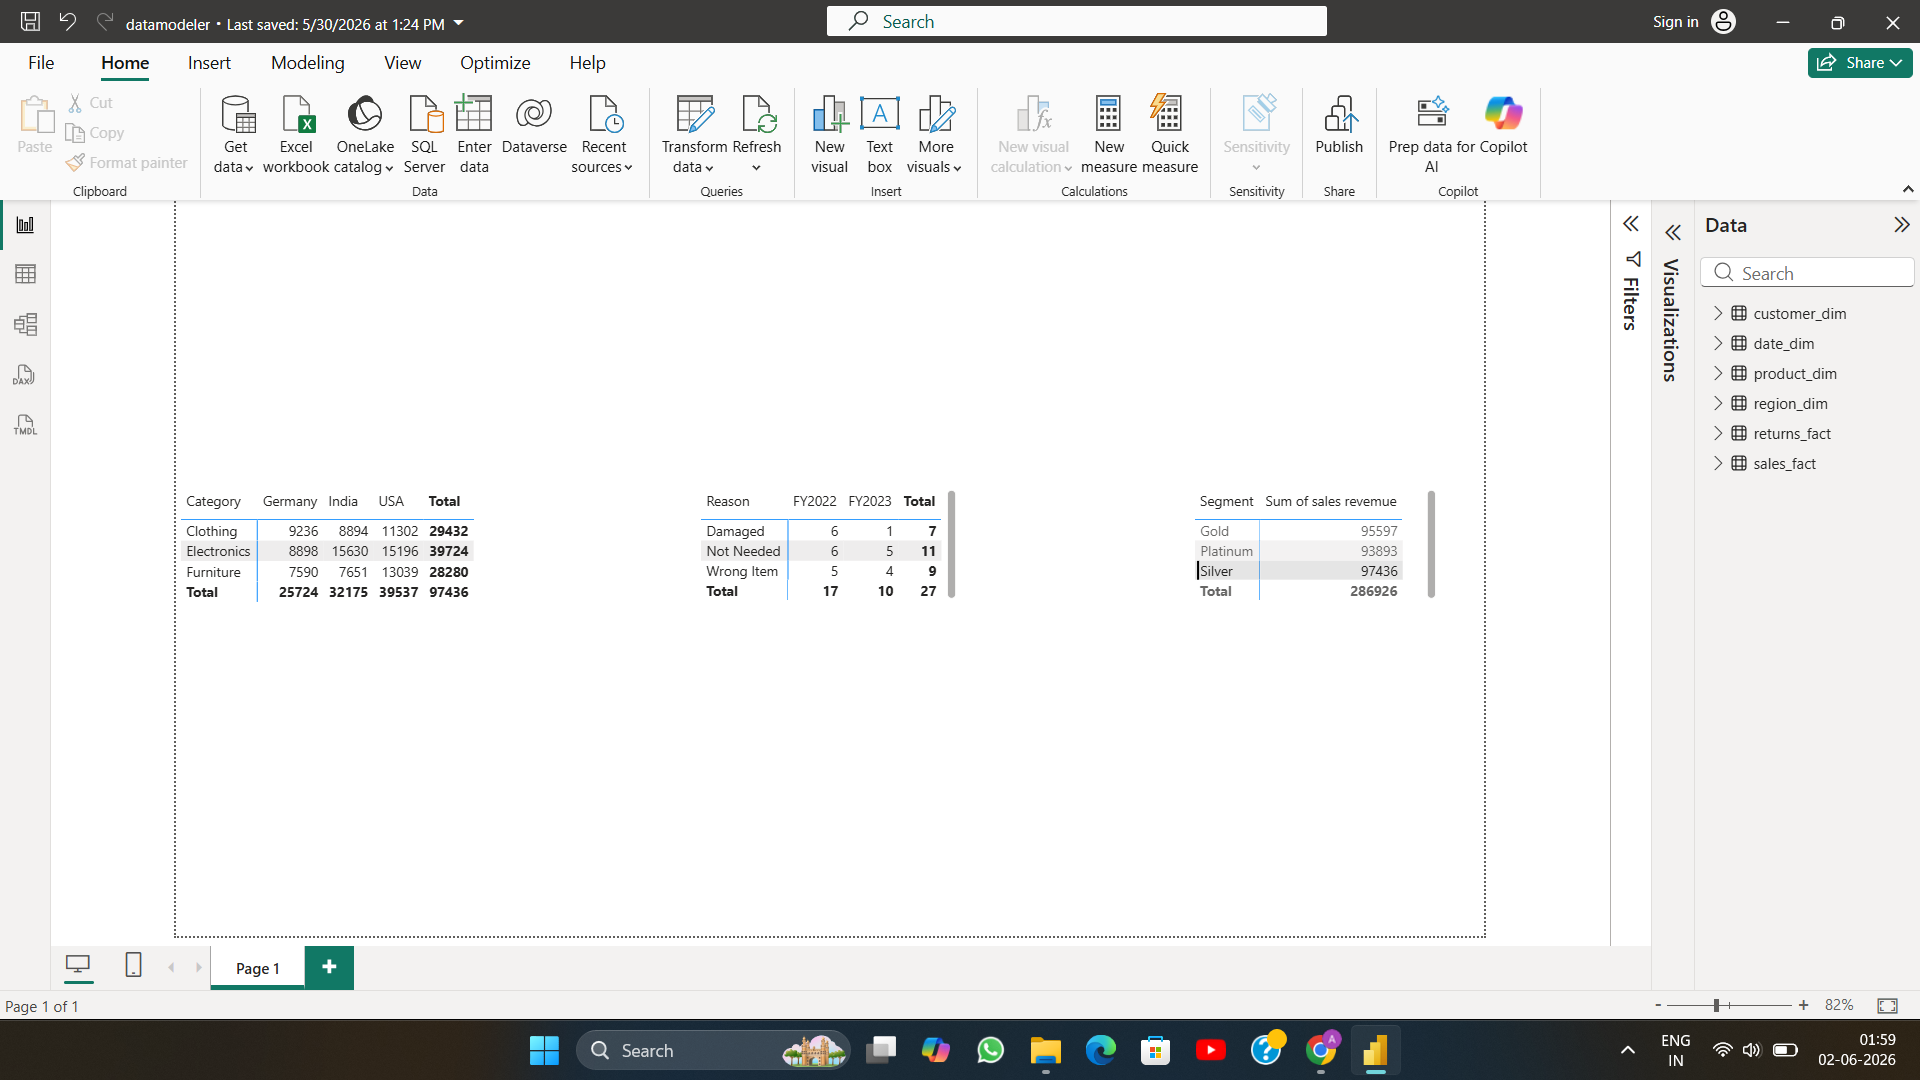

Layout of this report page (visuals, bound fields, positions):
{"tool":"powerbi","page":{"name":"Page 1","canvas":[1280,720],"ordinal":0},"visuals":[{"type":"pivotTable","fields":{"Rows":["product_dim.product hierachy.Category"],"Columns":["region_dim.region hierarchy.Country"],"Values":["Sum(sales_fact.sales revemue)"]},"box":[0,0,344.4,161.9],"z":0},{"type":"pivotTable","fields":{"Rows":["returns_fact.Reason"],"Values":["CountNonNull(returns_fact.ReturnID)"],"Columns":["date_dim.Fiscal Year"]},"box":[524.2,0,259.3,118],"z":1000},{"type":"pivotTable","fields":{"Rows":["customer_dim.Segment"],"Values":["Sum(sales_fact.sales revemue)"]},"box":[1034.7,0,245.6,118],"z":2000}]}

Visuals, with their boxes on the page's 1280x720 design canvas (x1, y1, x2, y2). These are canvas units, not pixel positions in the 1920x1080 screenshot, which may show the page scaled, cropped or inside an application window:
pivotTable - product_dim.product hierachy.Category x region_dim.region hierarchy.Country: [0, 0, 344, 162]
pivotTable - returns_fact.Reason x CountNonNull(returns_fact.ReturnID): [524, 0, 784, 118]
pivotTable - customer_dim.Segment x Sum(sales_fact.sales revemue): [1035, 0, 1280, 118]
